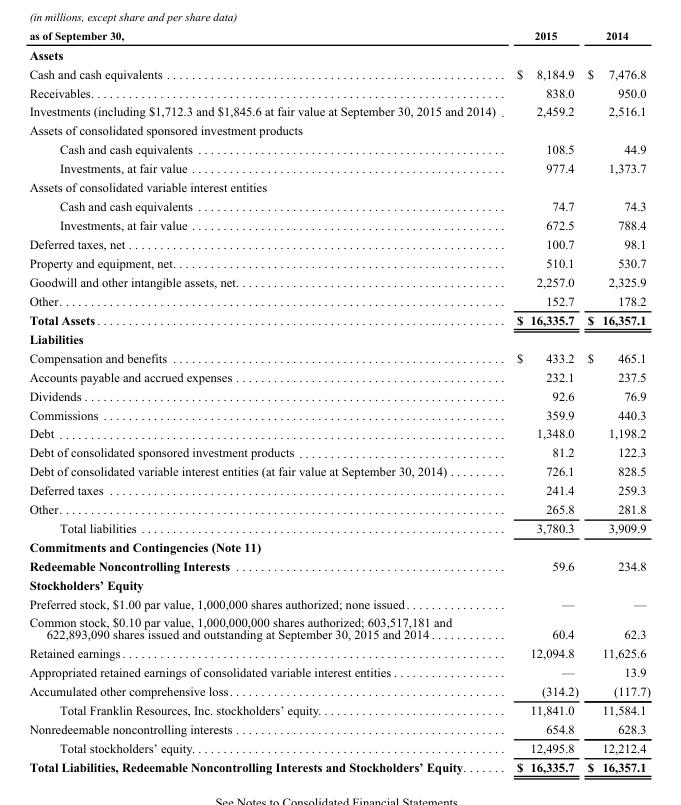table: (28, 28, 649, 773)
table column: (28, 28, 509, 773), (509, 28, 582, 773), (582, 28, 649, 773)
table column header: (28, 28, 649, 44)
table projected row header: (28, 44, 649, 63), (28, 120, 649, 139), (28, 177, 649, 196), (28, 537, 649, 556), (28, 575, 649, 594), (28, 329, 649, 347)
table row: (28, 612, 649, 643), (28, 44, 649, 63), (28, 63, 649, 82), (28, 82, 649, 101), (28, 101, 649, 120), (28, 120, 649, 139), (28, 139, 649, 158), (28, 158, 649, 177), (28, 177, 649, 196), (28, 196, 649, 215), (28, 215, 649, 234), (28, 234, 649, 253), (28, 253, 649, 272), (28, 272, 649, 291), (28, 291, 649, 310), (28, 310, 649, 329), (28, 347, 649, 366), (28, 366, 649, 385), (28, 385, 649, 404), (28, 404, 649, 423), (28, 423, 649, 442), (28, 442, 649, 461), (28, 461, 649, 480), (28, 480, 649, 499), (28, 499, 649, 518), (28, 518, 649, 537), (28, 537, 649, 556), (28, 556, 649, 575), (28, 575, 649, 594), (28, 643, 649, 662), (28, 662, 649, 681), (28, 681, 649, 700), (28, 700, 649, 719), (28, 719, 649, 738), (28, 738, 649, 757), (28, 329, 649, 347), (28, 594, 649, 612), (28, 28, 649, 44), (28, 757, 649, 773)
